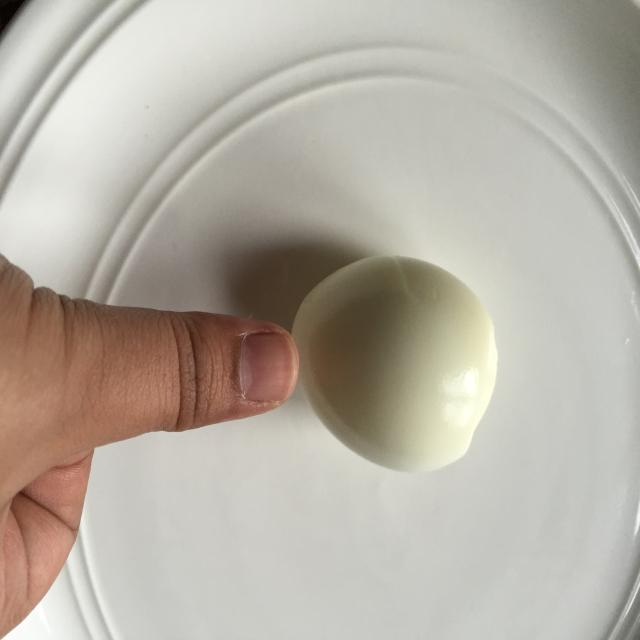Egg: (291, 232, 511, 496)
Finger: (125, 294, 292, 449)
